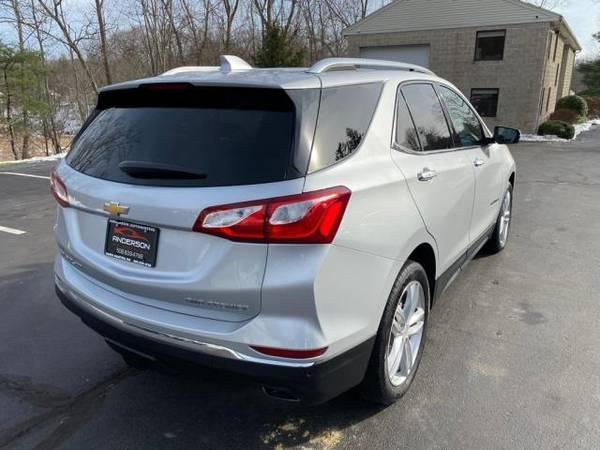Front_Right_Door: (465, 148, 510, 262)
Front_Right_Window: (436, 84, 497, 149)
Rear_Bumper: (52, 248, 403, 405)
Rear_Fender: (305, 85, 430, 266)
Rear_Right_Door: (393, 146, 475, 293)
Rear_Right_Window: (394, 80, 463, 154)
Rear_Windshield: (66, 85, 300, 189)
Right_Taillight: (191, 187, 351, 248)
Roof: (96, 61, 460, 183)
Tailgate: (50, 162, 308, 322)
Wheel: (376, 259, 437, 398), (495, 188, 513, 249)
